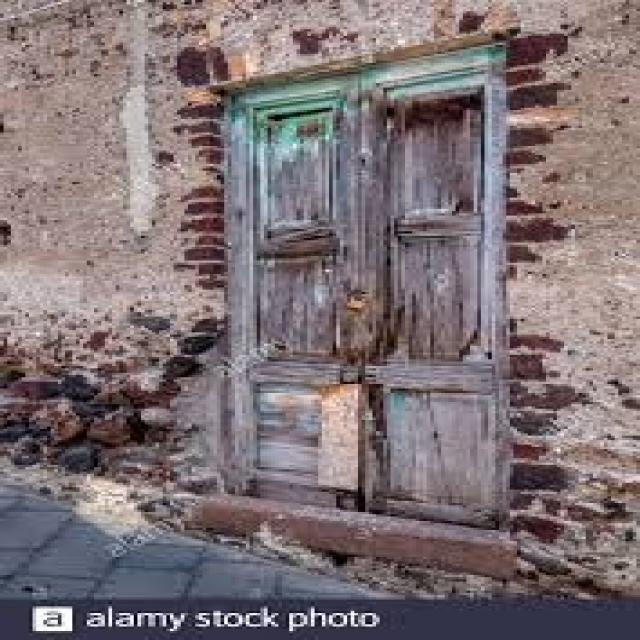Door: (231, 97, 481, 530)
